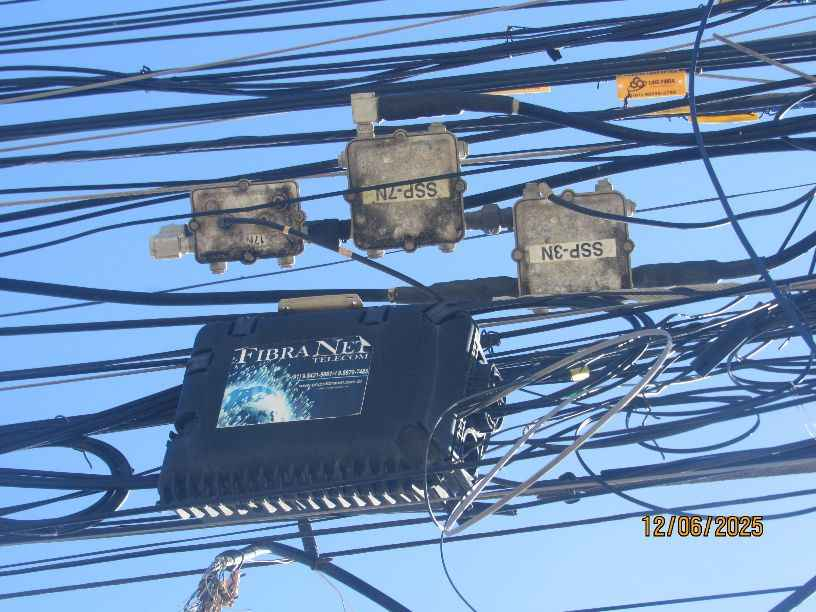caixa_derivacao: (158, 314, 520, 519)
fibra_optica: (607, 65, 696, 103)
